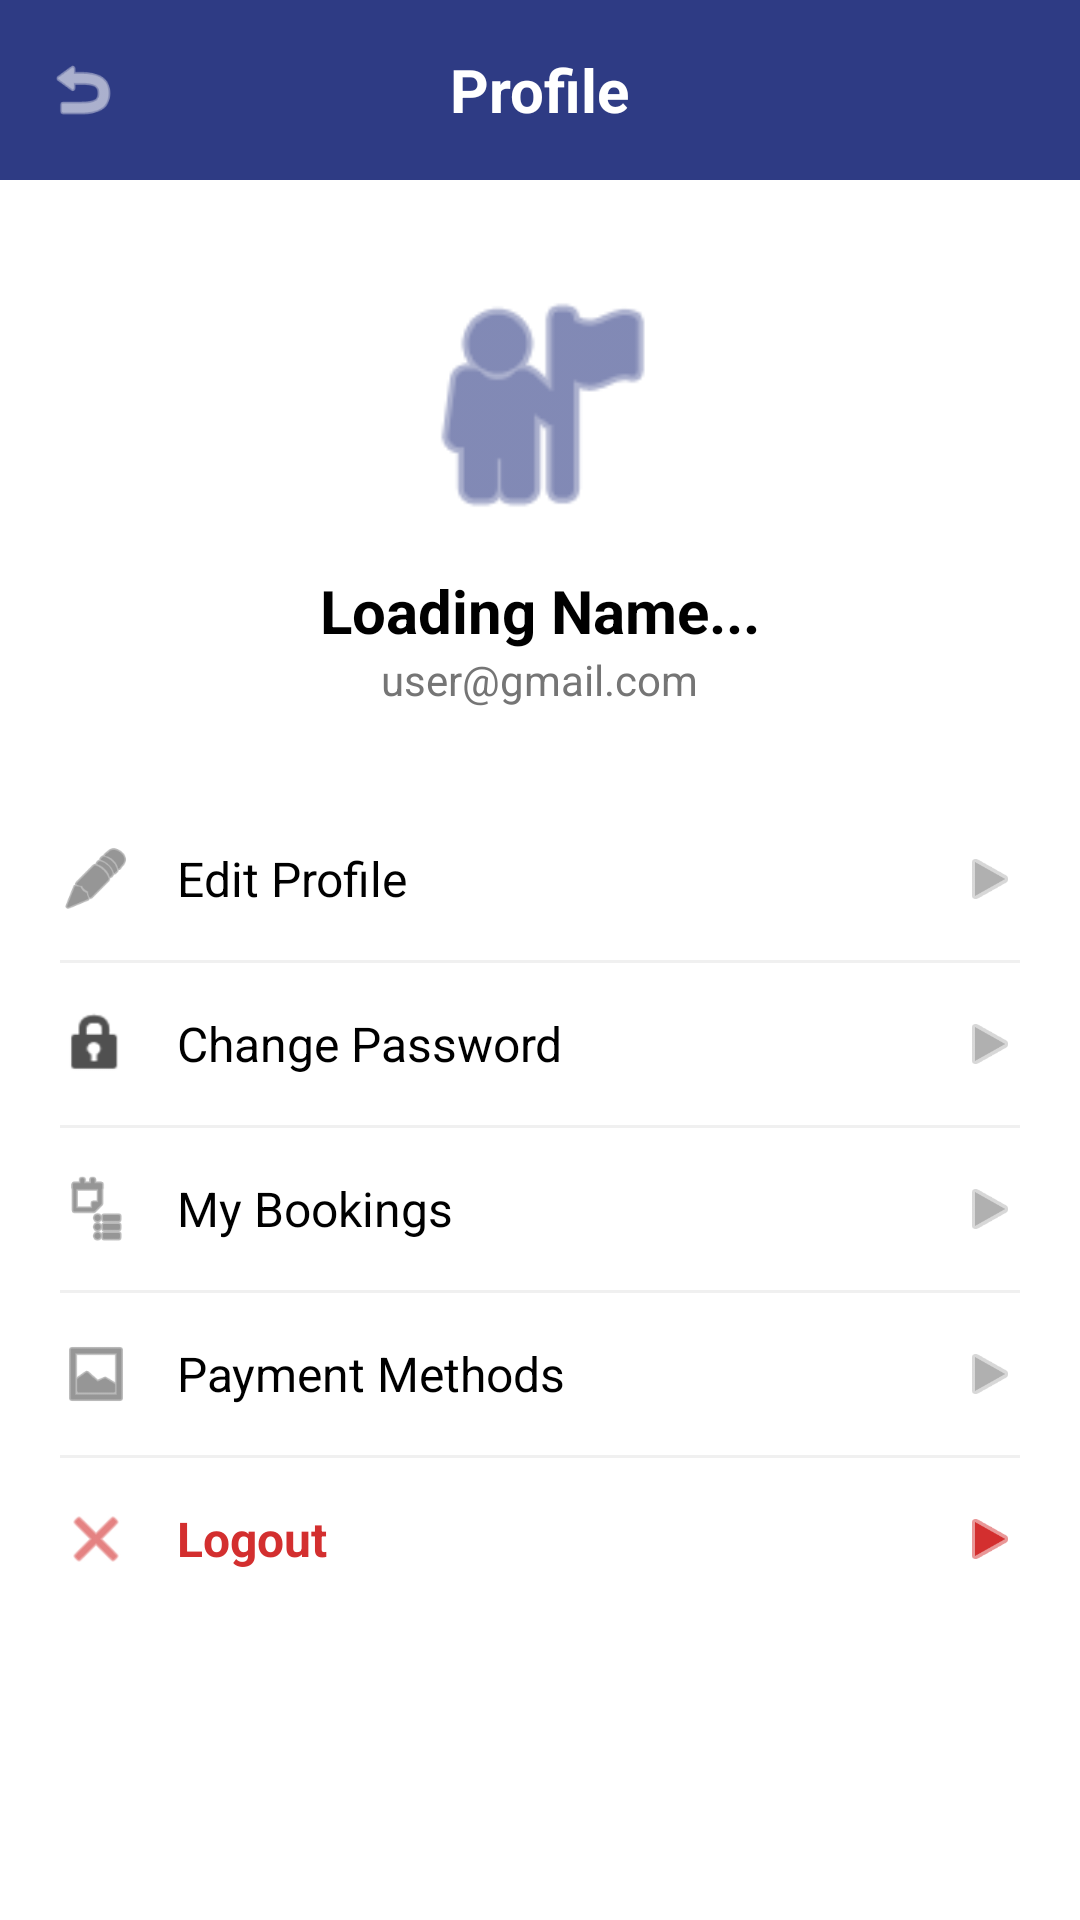

Icon click points for this 1080 × 1920 phone screenshot, format [x,y]:
agenda: [96,1209]
close clear cancel: [96,1539]
gallery: [96,1374]
lock idle: [94,1041]
myplaces: [542,405]
play: [990,879], [990,1044], [990,1209], [990,1374], [990,1539]
revert: [83,90]
